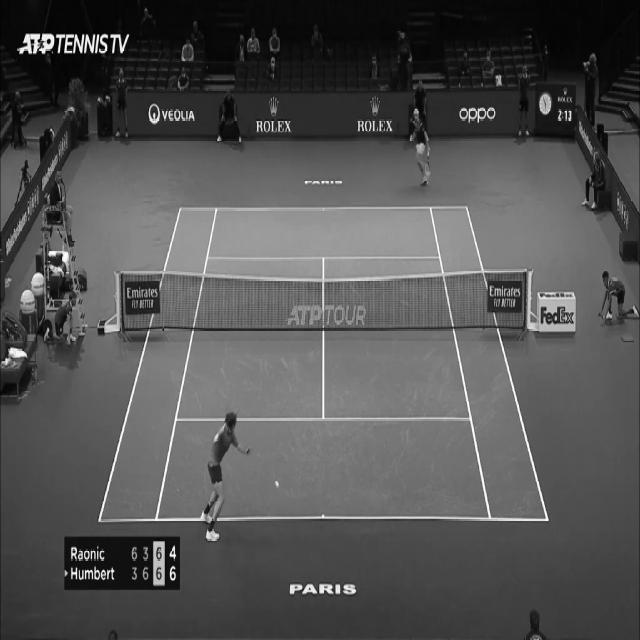tennis-court: (98, 206, 549, 522)
